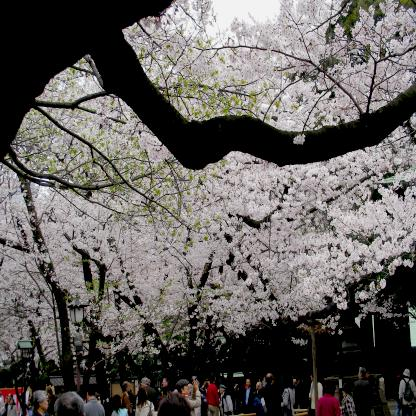Someiyoshino: (1, 0, 414, 354)
